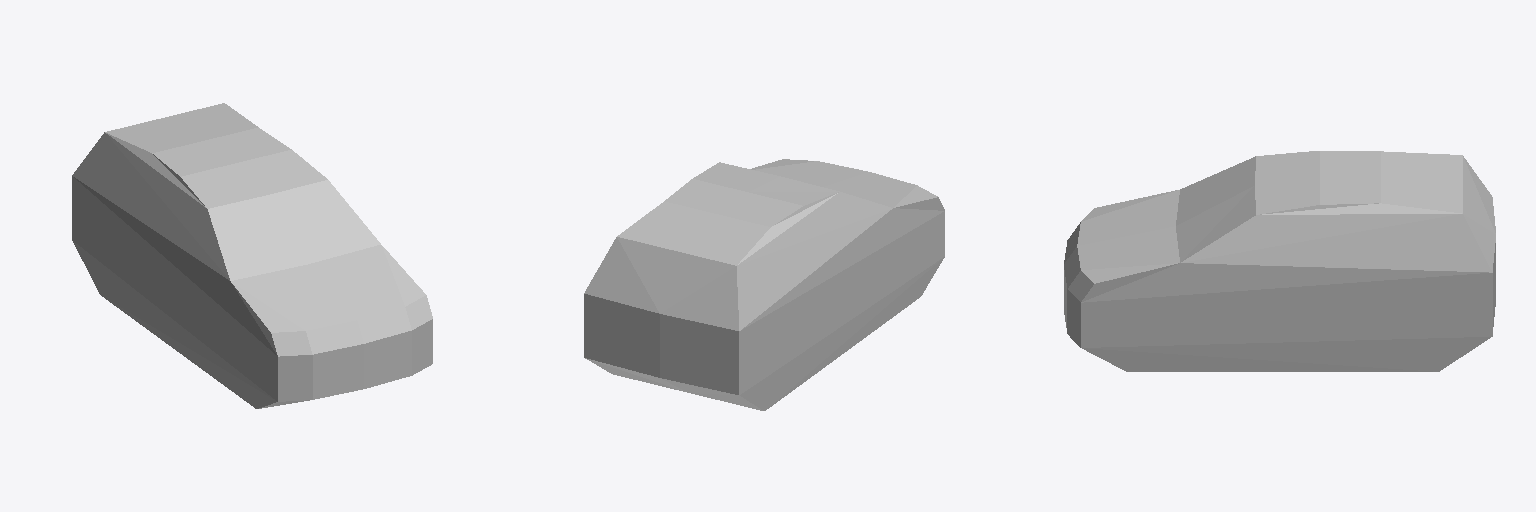
File: cars_car.obj
3 renders of one model, left to right at view 1: azimuth 30°, elevation 25°; view 2: azimuth 150°, elevation 25°; view 3: azimuth 270°, elevation 25°, orthographic.
Visible parts, largest first — view 1: FuzzyRed_Cube.001; view 2: FuzzyRed_Cube.001; view 3: FuzzyRed_Cube.001.
Boxes of the visible parts, x1=… form: FuzzyRed_Cube.001: x1=72, y1=103, x2=432, y2=408; FuzzyRed_Cube.001: x1=584, y1=159, x2=944, y2=410; FuzzyRed_Cube.001: x1=1064, y1=151, x2=1495, y2=371.
Size of the model in its own units: 12.51 by 12.1 by 30.16.